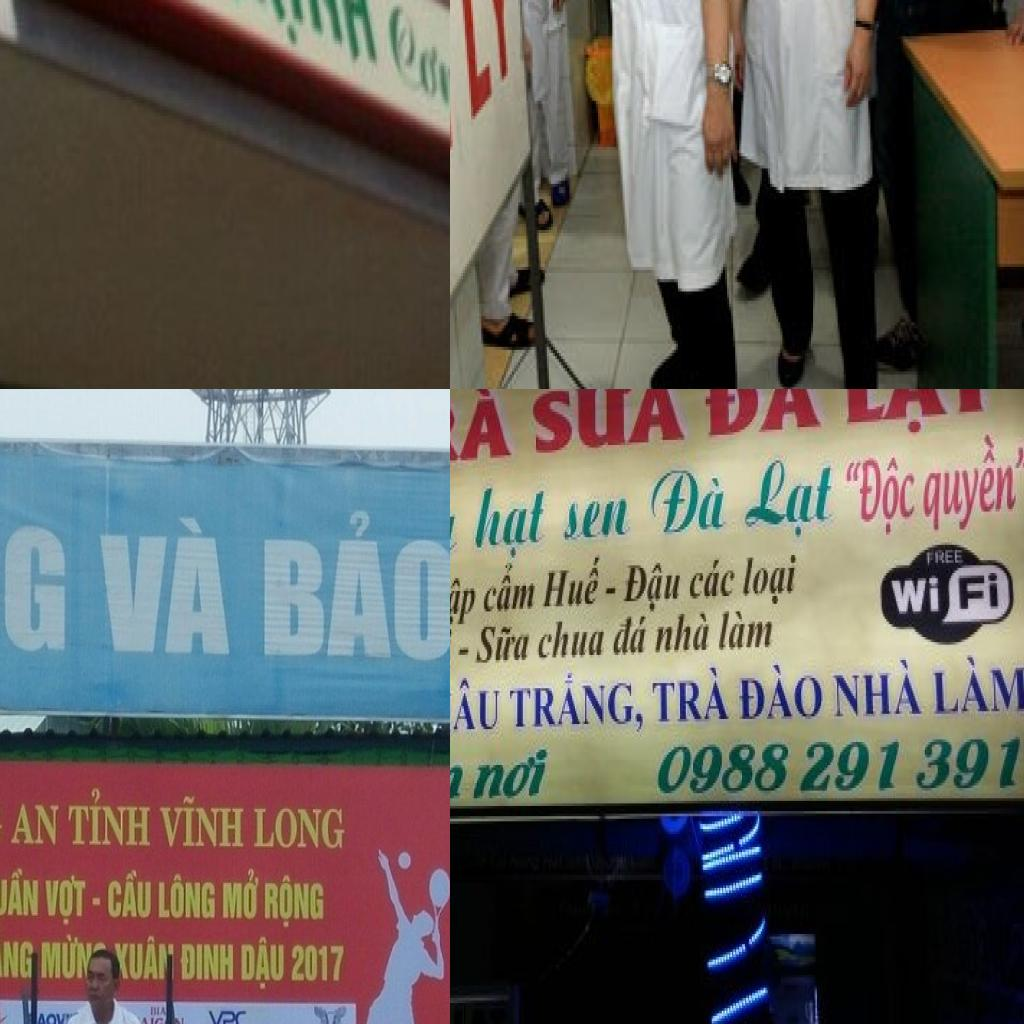text: (250, 500, 450, 672), (652, 729, 1024, 806), (84, 504, 240, 668), (220, 0, 384, 84), (0, 494, 70, 678), (527, 389, 692, 462), (919, 427, 1024, 539), (506, 663, 650, 742), (838, 389, 1004, 447), (739, 455, 841, 545), (387, 0, 450, 131), (830, 652, 928, 726), (470, 478, 555, 563), (700, 389, 828, 445), (840, 453, 919, 542), (928, 649, 1024, 721), (645, 463, 732, 542), (450, 389, 520, 481), (735, 658, 825, 726), (65, 782, 154, 849), (650, 662, 733, 732), (468, 744, 555, 808), (889, 571, 1003, 619), (157, 791, 247, 850), (249, 804, 347, 854), (560, 488, 636, 550), (540, 550, 607, 614), (533, 614, 611, 668), (740, 547, 802, 614), (478, 560, 539, 624), (620, 558, 687, 616), (450, 673, 504, 742), (261, 873, 327, 929), (653, 606, 713, 660), (156, 870, 217, 923), (715, 609, 778, 660), (472, 622, 538, 670), (110, 934, 176, 981), (38, 929, 95, 981), (686, 552, 739, 606), (7, 799, 61, 850), (238, 934, 286, 991), (43, 872, 89, 930), (0, 863, 43, 924), (289, 942, 348, 986), (106, 868, 153, 922), (179, 940, 235, 984), (220, 863, 261, 923), (611, 612, 651, 662), (450, 572, 482, 634), (0, 925, 36, 979), (450, 747, 471, 813), (925, 550, 967, 570), (206, 1005, 249, 1024), (34, 1008, 69, 1024), (456, 642, 472, 663), (148, 1003, 170, 1018), (602, 586, 620, 601), (138, 1016, 167, 1024)
